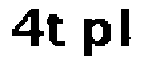4: (9, 4, 46, 50)
I: (119, 6, 137, 51)
p: (79, 14, 115, 57)
t: (47, 8, 69, 50)
